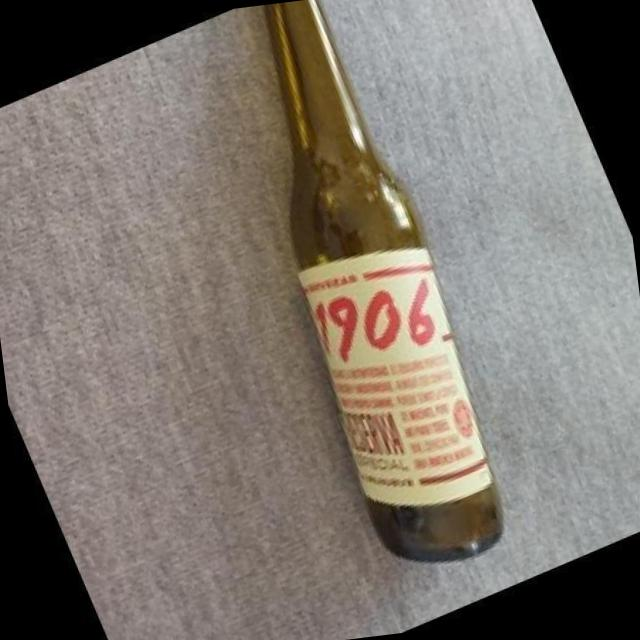BotolKaca: (258, 0, 511, 579)
